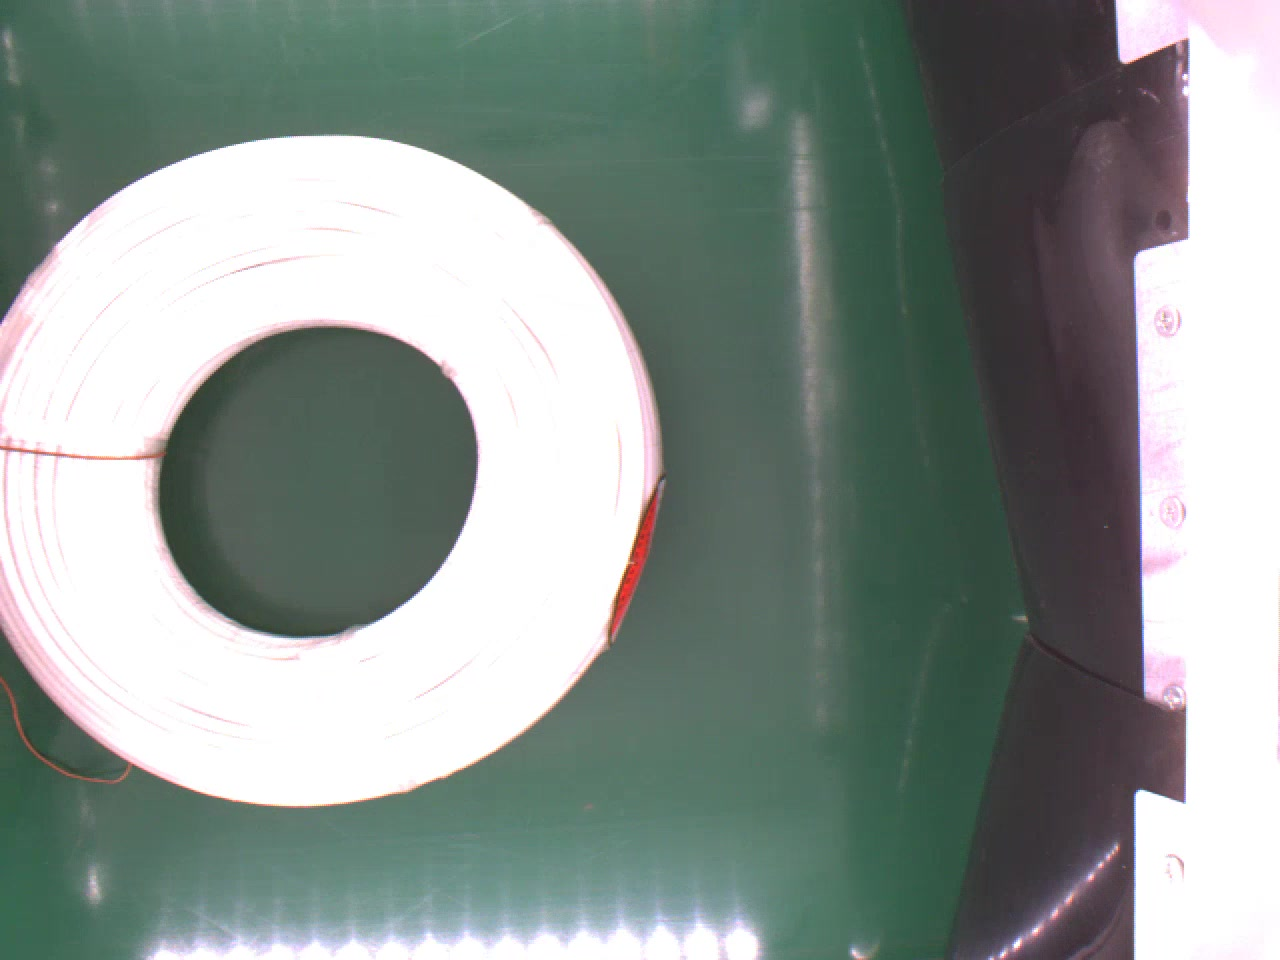white: (0, 130, 665, 802)
